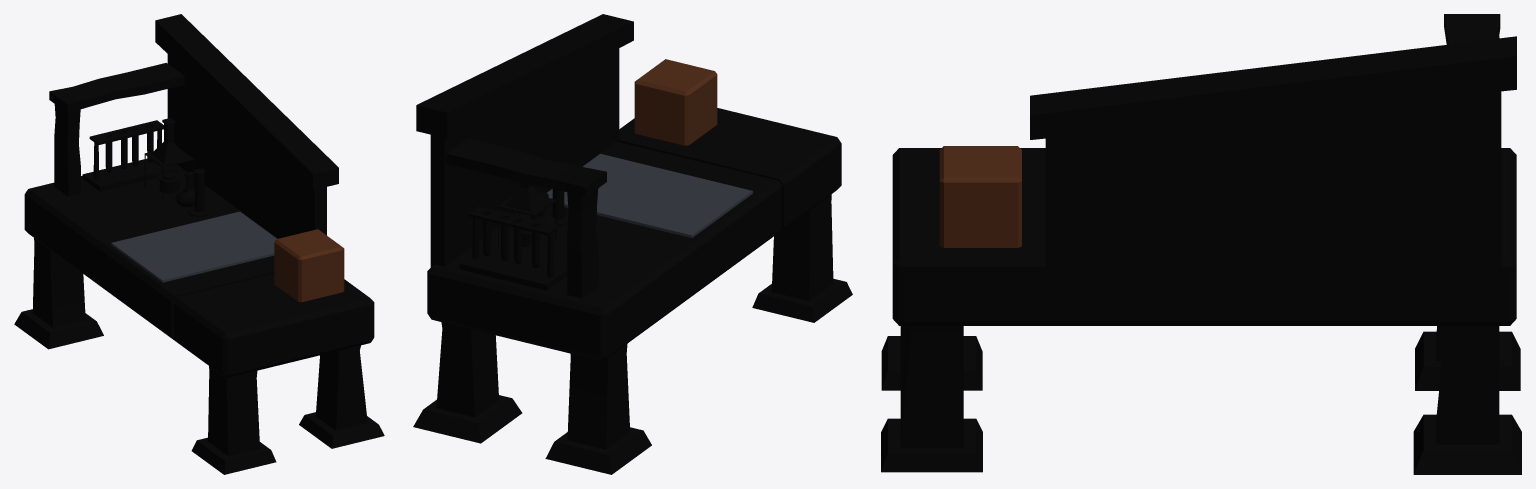
File: Craftingtablefbx.fbx
3 views of the same model, side by side, from view 1: azimuth 30°, elevation 25°; view 2: azimuth 150°, elevation 25°; view 3: azimuth 270°, elevation 25° (orthographic). The views are drawn at different scales.
Visible parts, largest first — view 1: pCylinder13 (×5); view 2: pCylinder13 (×5); view 3: pCylinder13 (×2).
Part boxes in pixels (x1,y1,x2,y2): pCylinder13 (×5): [14, 14, 384, 474]; pCylinder13 (×5): [413, 14, 852, 474]; pCylinder13 (×2): [881, 14, 1521, 474].
Bounding box in the file's own units: 2.35 × 3.64 × 5.06.
